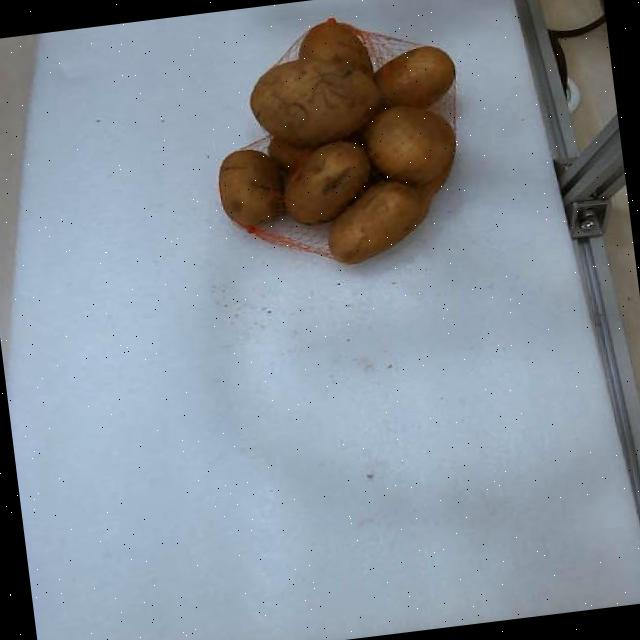potato: (249, 58, 378, 144), (330, 180, 428, 263), (284, 140, 368, 224), (367, 106, 452, 181), (218, 148, 283, 224), (374, 45, 452, 107), (298, 16, 369, 73)
